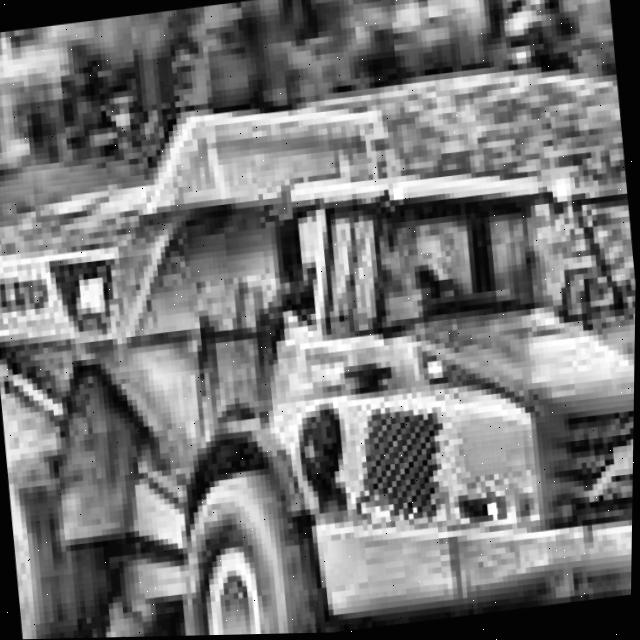dump_truck: (0, 53, 639, 640)
